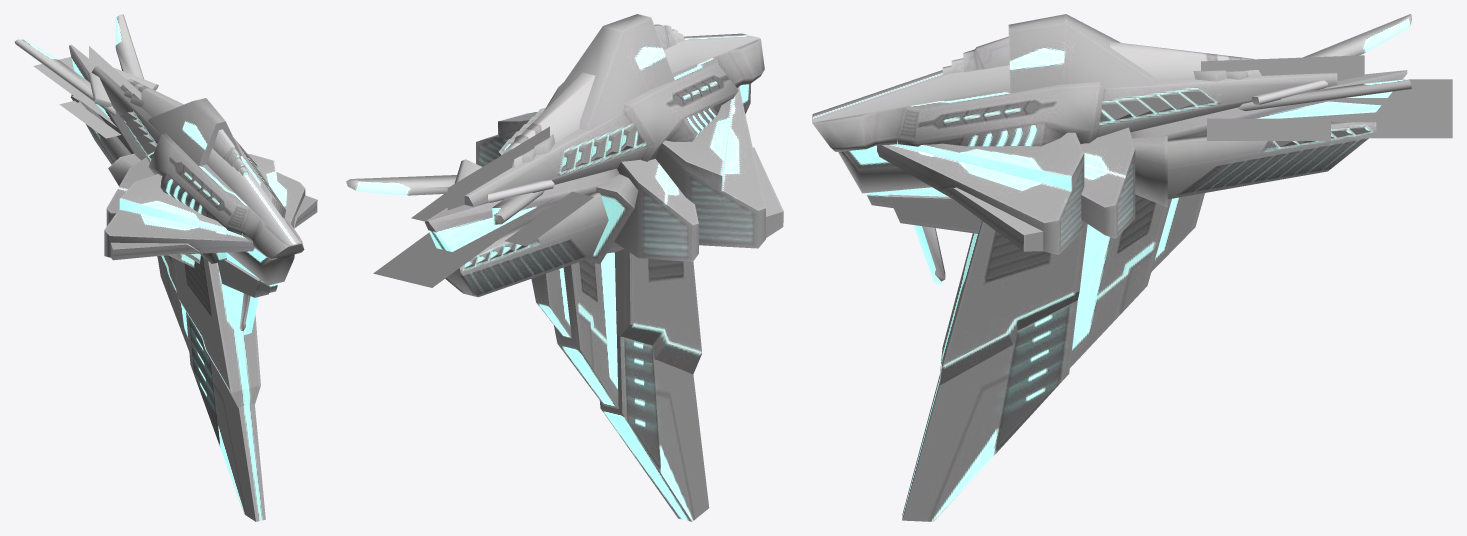
3 renders of one model, left to right at view 1: azimuth 30°, elevation 25°; view 2: azimuth 150°, elevation 25°; view 3: azimuth 270°, elevation 25°, orthographic. The views are drawn at different scales.
Visible parts, largest first — view 1: space-unit-humpback; view 2: space-unit-humpback; view 3: space-unit-humpback.
Part boxes in pixels (bbox=[...]): space-unit-humpback: bbox=[14, 14, 317, 521]; space-unit-humpback: bbox=[346, 14, 783, 521]; space-unit-humpback: bbox=[812, 14, 1452, 521].
Size of the model in its own units: 75.74 by 133 by 155.
2 materials, 1 textured.
